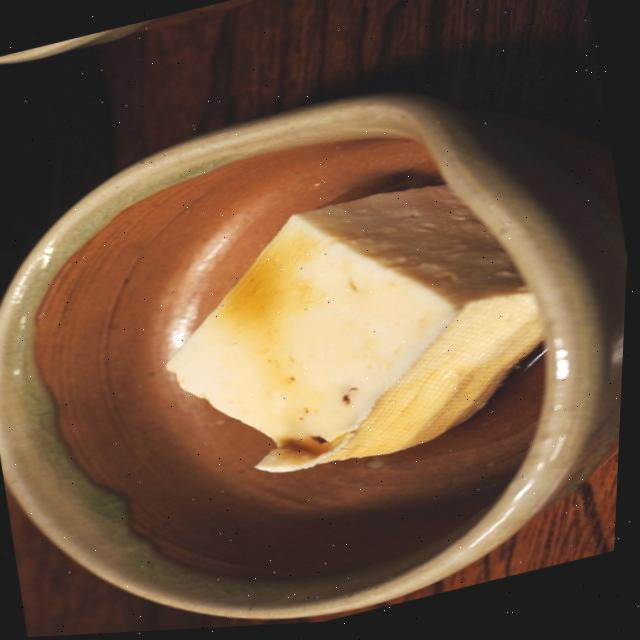豆腐料理: (0, 31, 638, 640)
